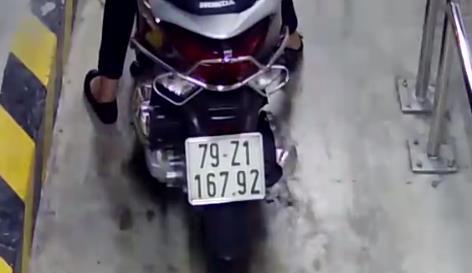lisence: (185, 132, 266, 206)
